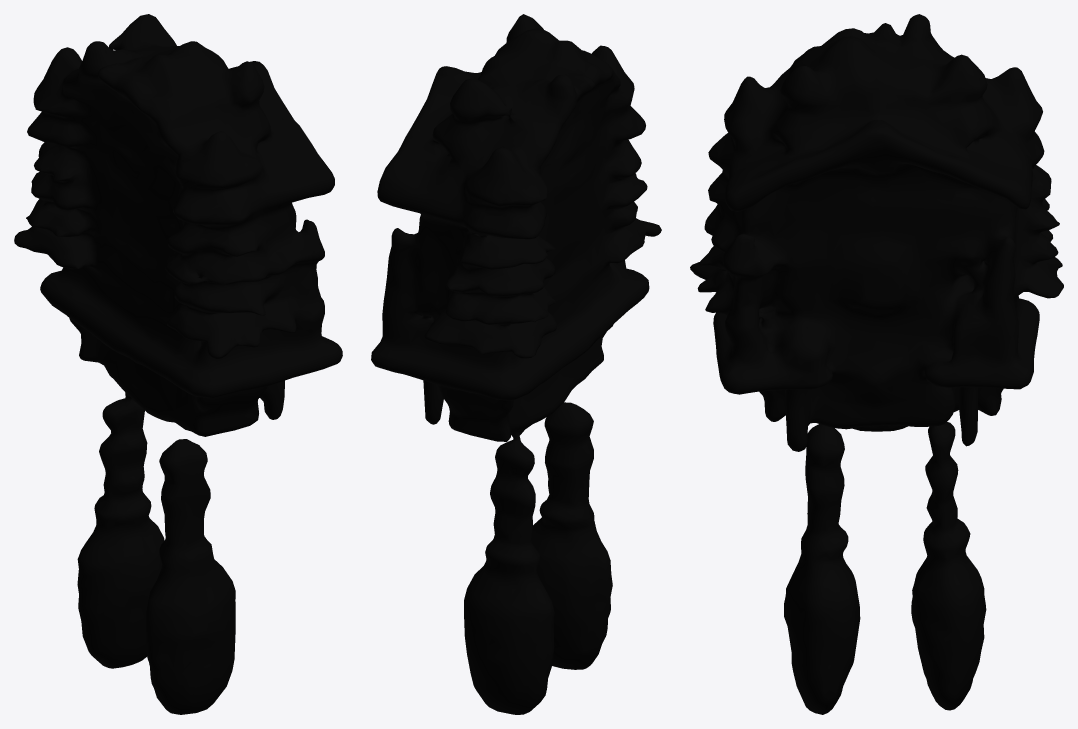
Rendered from Clock.fbx.
The picture shows the model from 3 angles, left to right: view 1: azimuth 30°, elevation 25°; view 2: azimuth 150°, elevation 25°; view 3: azimuth 270°, elevation 25°; orthographic projection. The views are drawn at different scales.
Visible parts, largest first — view 1: tripo_98c7901b_d120_4845_a50e_190523d6225f; view 2: tripo_98c7901b_d120_4845_a50e_190523d6225f; view 3: tripo_98c7901b_d120_4845_a50e_190523d6225f.
Part boxes in pixels (x1,y1,x2,y2): tripo_98c7901b_d120_4845_a50e_190523d6225f: [14, 14, 342, 714]; tripo_98c7901b_d120_4845_a50e_190523d6225f: [371, 14, 661, 714]; tripo_98c7901b_d120_4845_a50e_190523d6225f: [690, 14, 1063, 714].
Size of the model in its own units: 29.38 by 100 by 50.23.
1 material, 1 textured.
